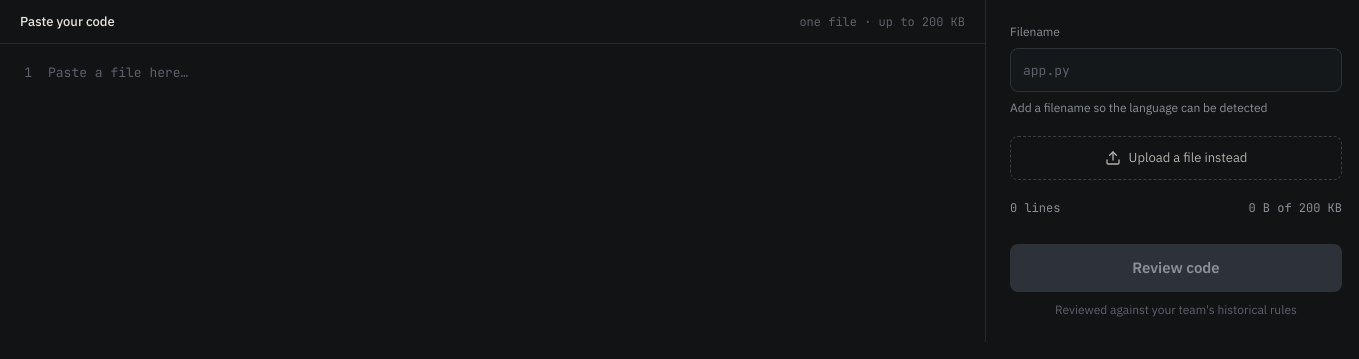
Test case: NewReviewPage › enables Review code only once code is entered
Check: the button "Review code" is disabled, box [1010,244,1342,292]
In the text box named "Code to review": (516, 193) [48,44,985,342], type "print(1)"
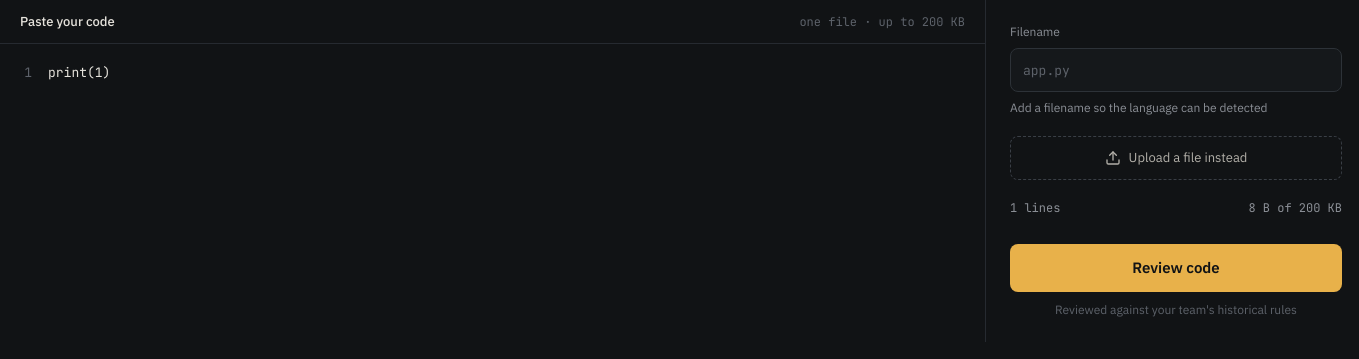
Check: the button "Review code" is enabled, box [1010,244,1342,292]
